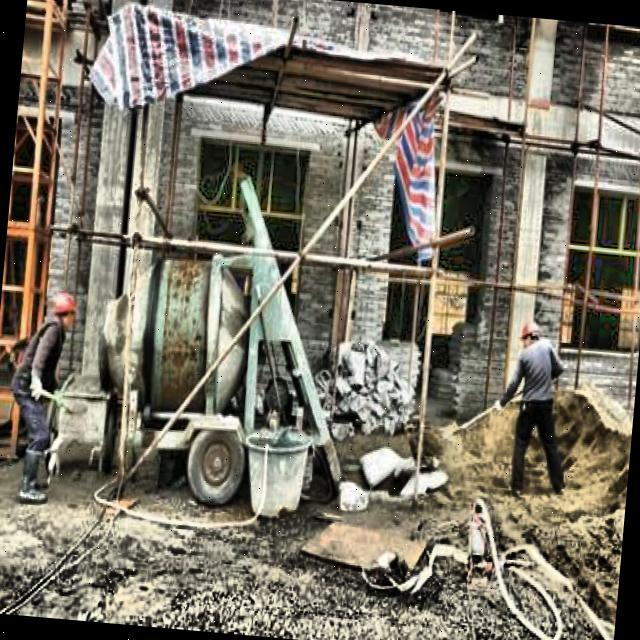helmet: (48, 286, 85, 335), (514, 313, 546, 354)
